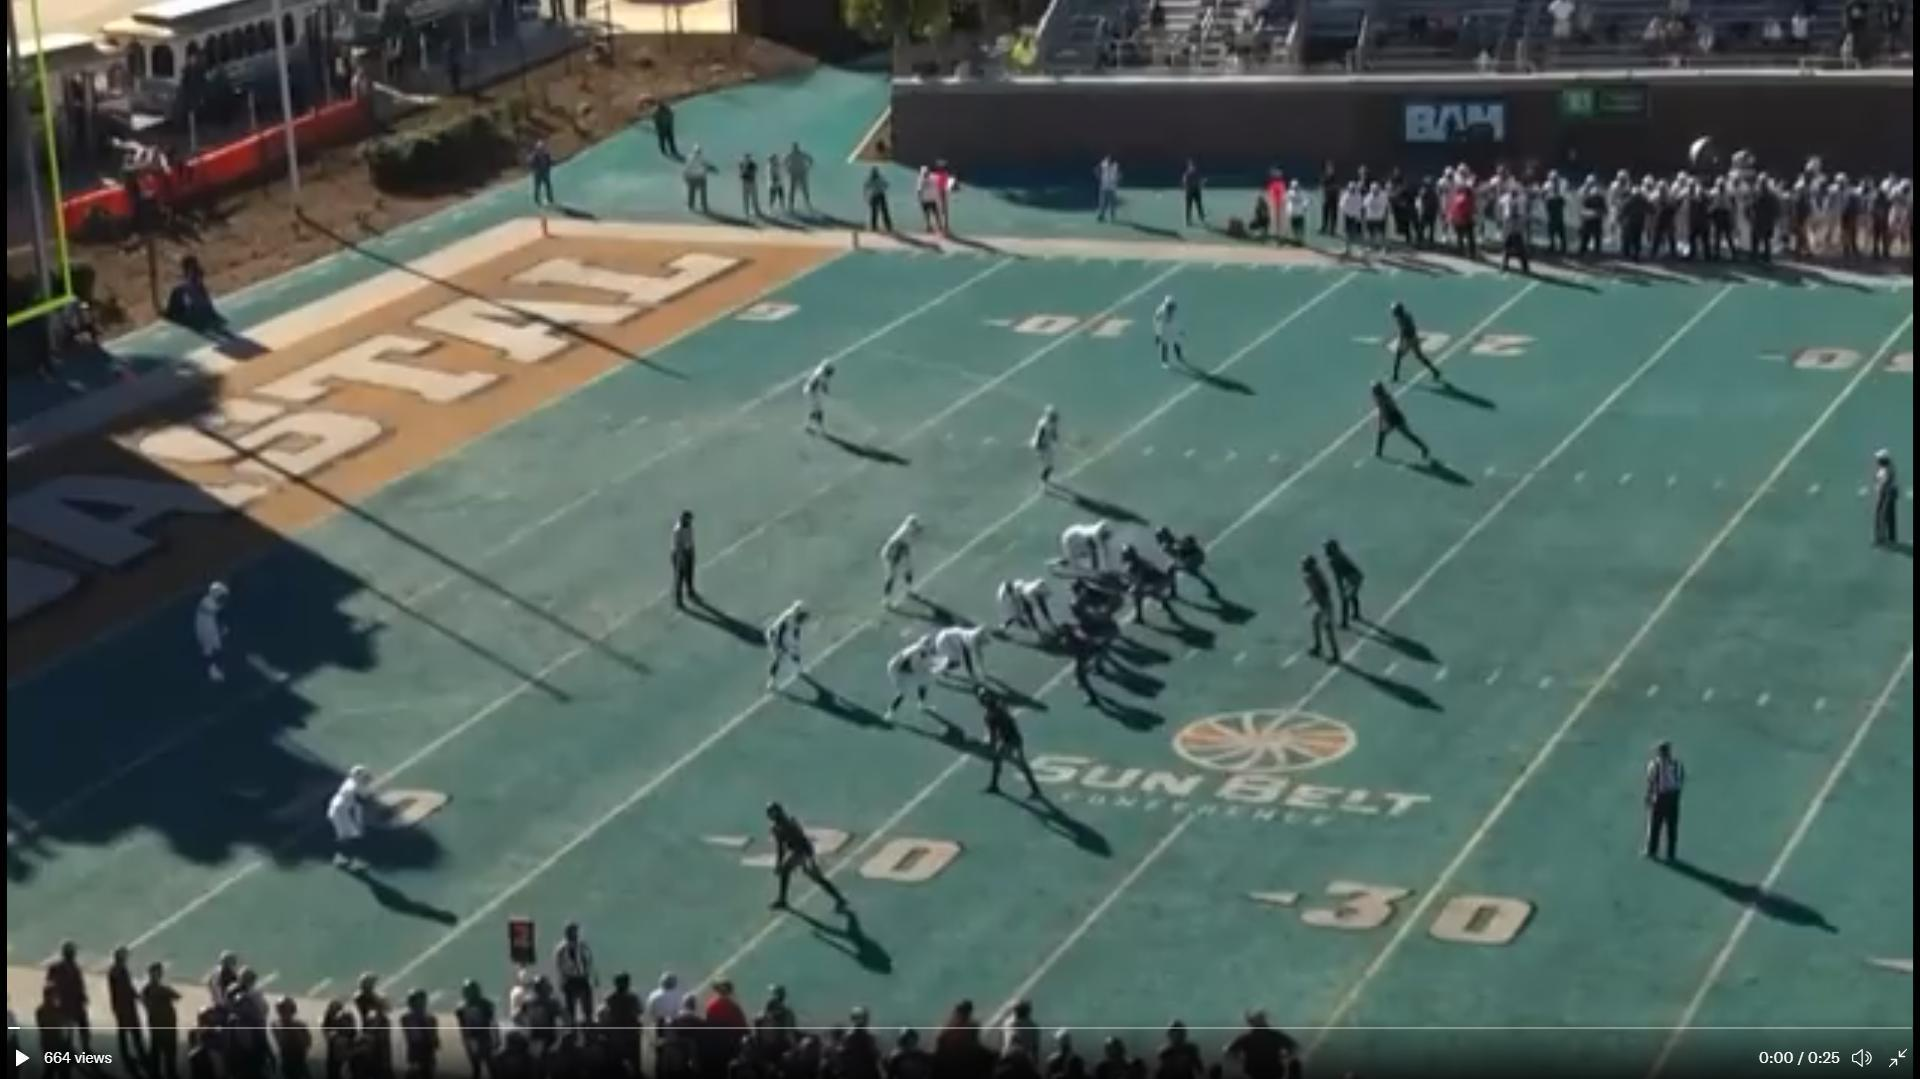defense: (321, 761, 385, 874), (881, 630, 949, 728), (909, 620, 990, 698), (191, 564, 239, 693), (992, 573, 1072, 648), (770, 597, 819, 709), (876, 510, 925, 616), (1042, 519, 1120, 577), (1025, 402, 1070, 495), (804, 355, 843, 457), (1143, 296, 1187, 383)
oline: (1114, 538, 1187, 641), (1158, 522, 1233, 610), (1052, 615, 1107, 709), (1069, 600, 1118, 681), (1071, 578, 1124, 619)
qb: (1292, 552, 1345, 673)
ref: (1634, 738, 1690, 881), (661, 503, 704, 623), (1856, 446, 1900, 555), (916, 156, 963, 257), (1495, 198, 1541, 286)
skill: (759, 795, 855, 920), (983, 682, 1051, 811), (1382, 295, 1445, 390), (1371, 379, 1438, 468), (1321, 532, 1370, 633)
